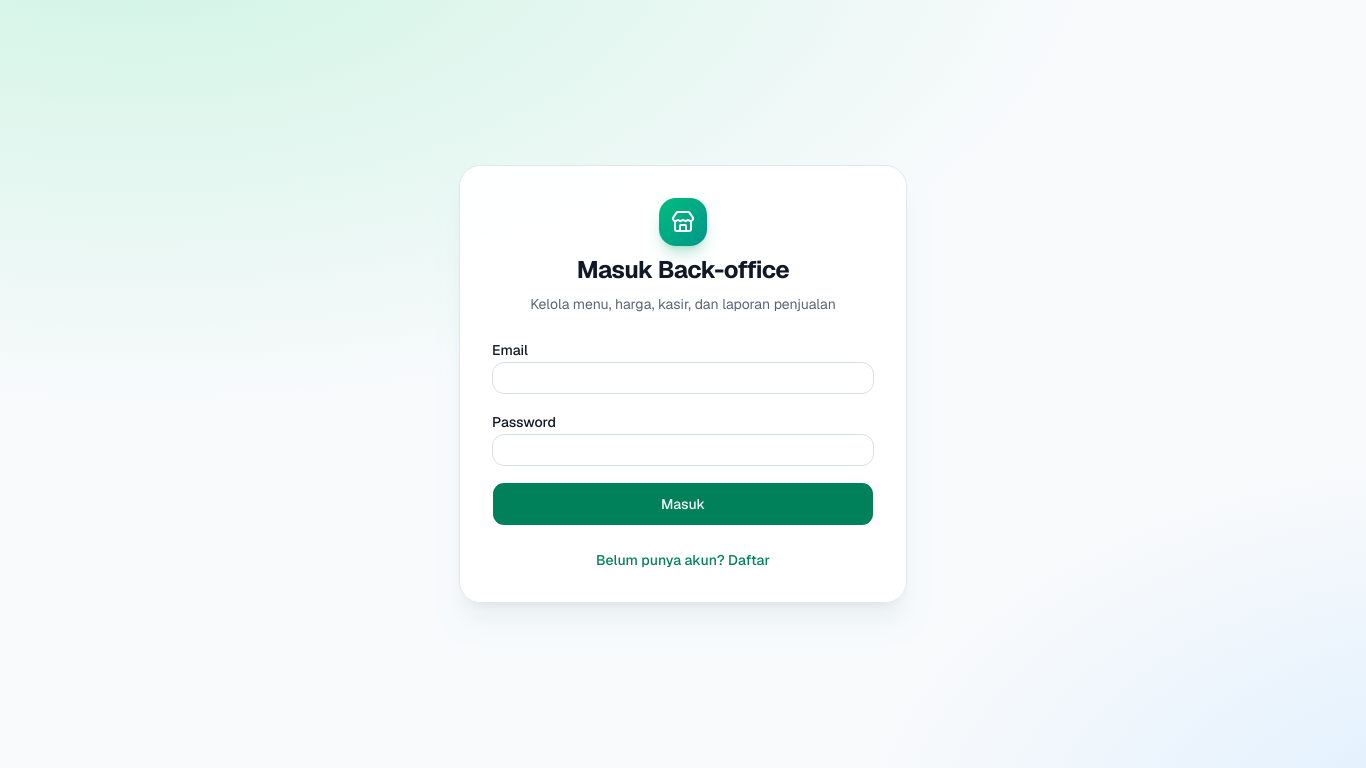
Scenario: LoginScreen › asks to wait after too many attempts (ADR-027)
Type "budi@maharasa.id" into the field labelled "Email" at x=683, y=378, box [492,362,874,394]
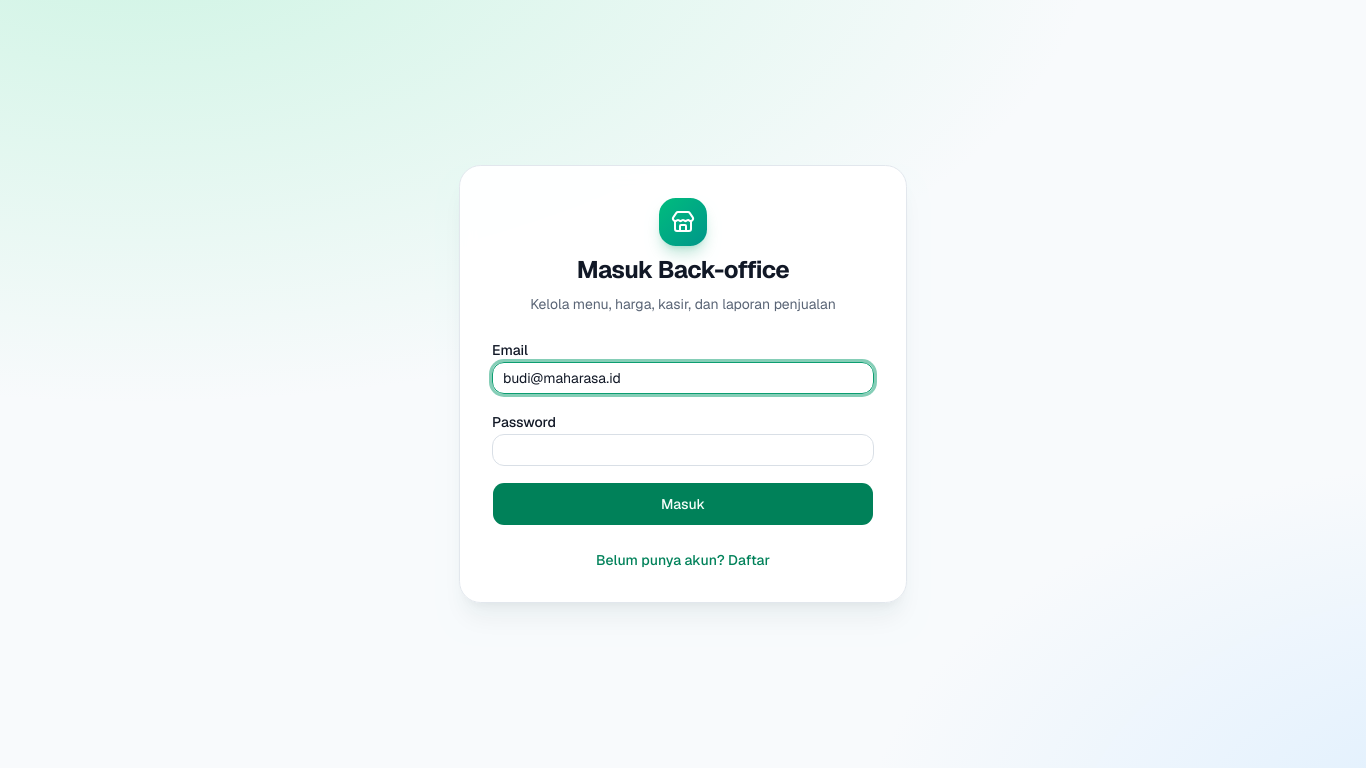
Type "salah" into the password field labelled "Password" at x=683, y=450, box [492,434,874,466]
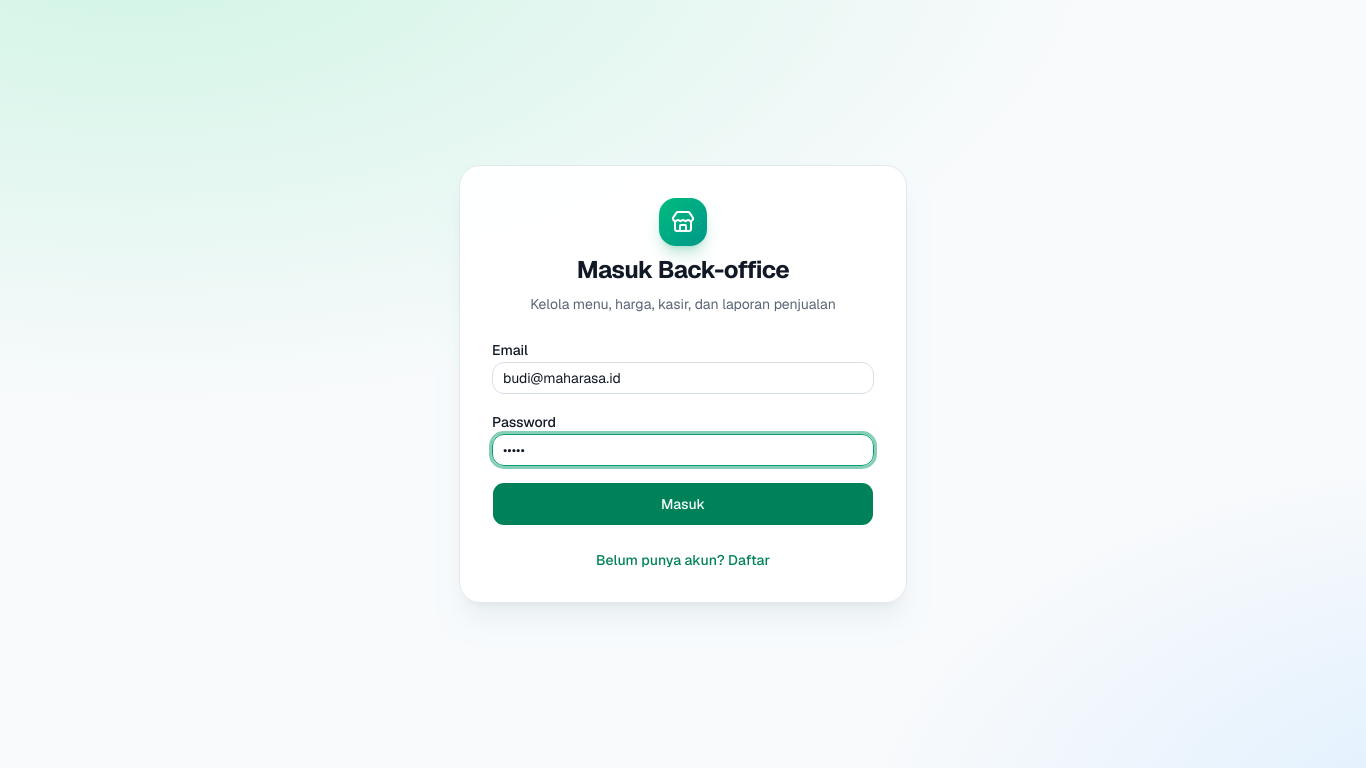
Click the button "Masuk" at x=683, y=504, box [492,482,874,526]
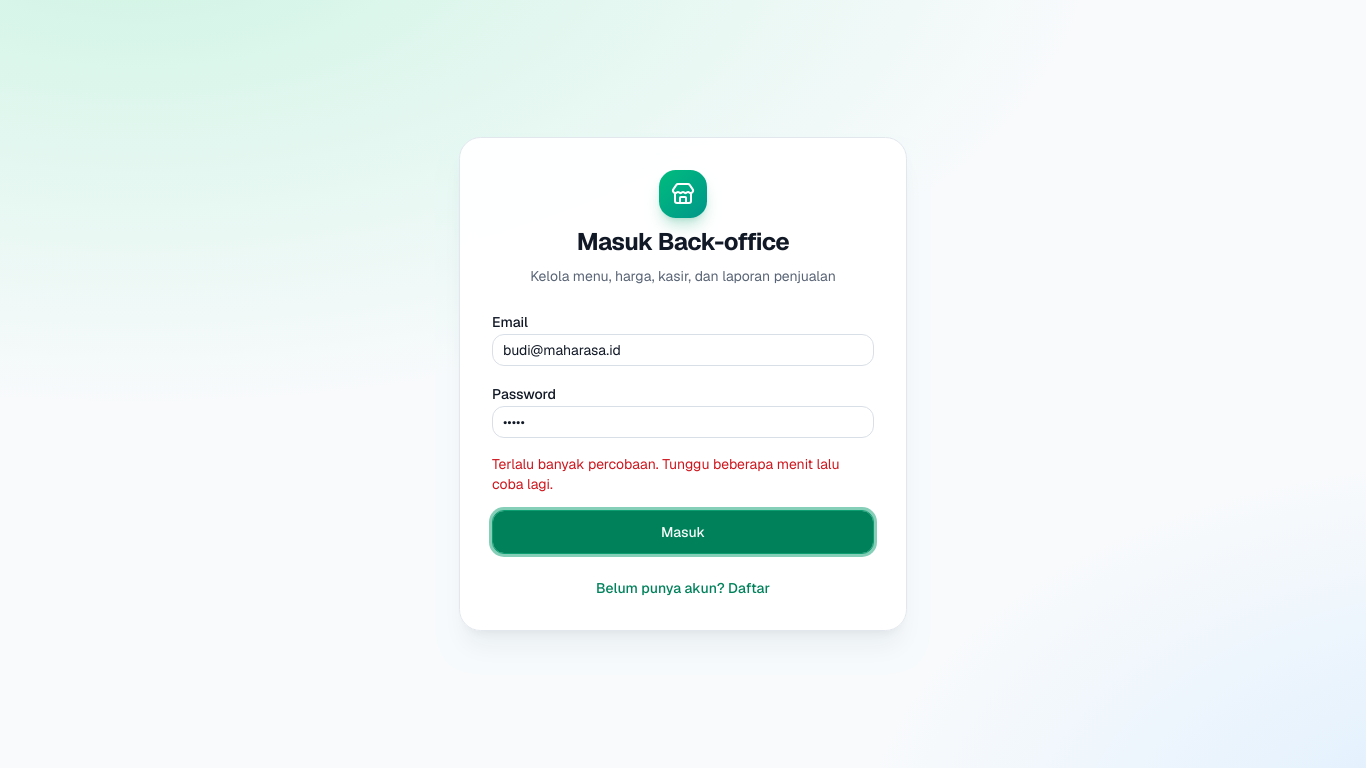
Check: the message shows "Terlalu banyak percobaan", box [492,455,840,493]
